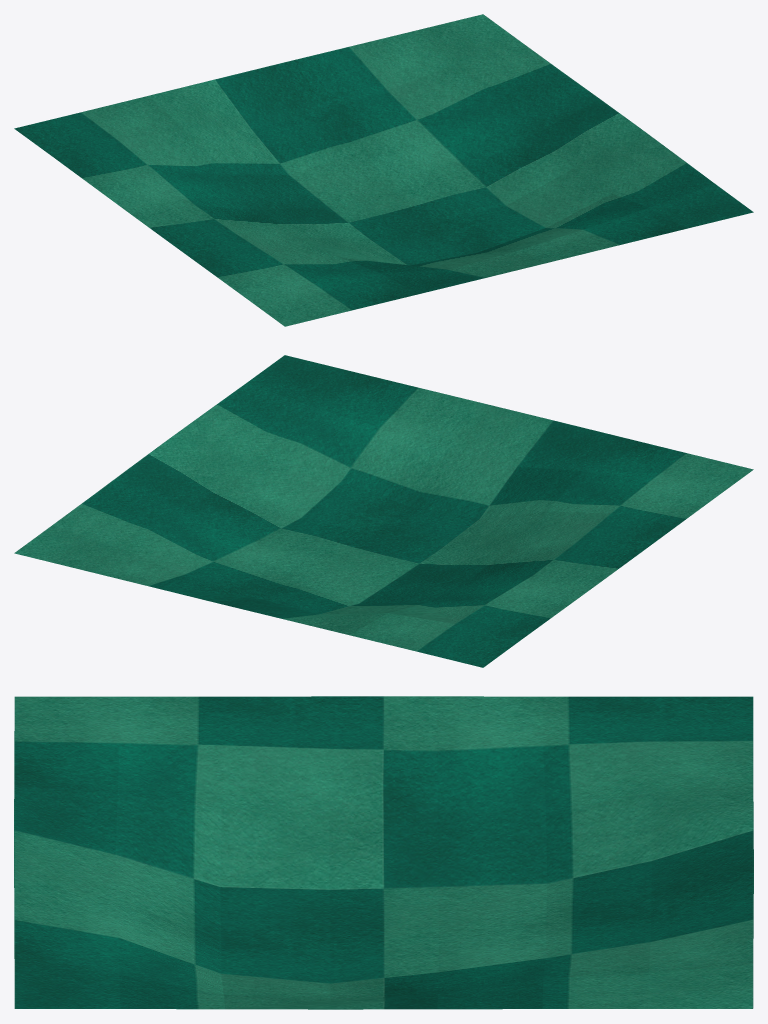
3 renders of one model, top to bottom at view 1: azimuth 30°, elevation 25°; view 2: azimuth 150°, elevation 25°; view 3: azimuth 270°, elevation 25°, orthographic. The views are drawn at different scales.
Visible parts, largest first — view 1: Part7_glb; view 2: Part7_glb; view 3: Part7_glb.
Part boxes in pixels (x1,y1,x2,y2): Part7_glb: (14,14,753,326); Part7_glb: (14,355,753,667); Part7_glb: (14,696,753,1009).
Size of what is drawn, in the model's own units: 4.01 by 0.3804 by 4.01.
Materials: 1 (1 with a texture image).
